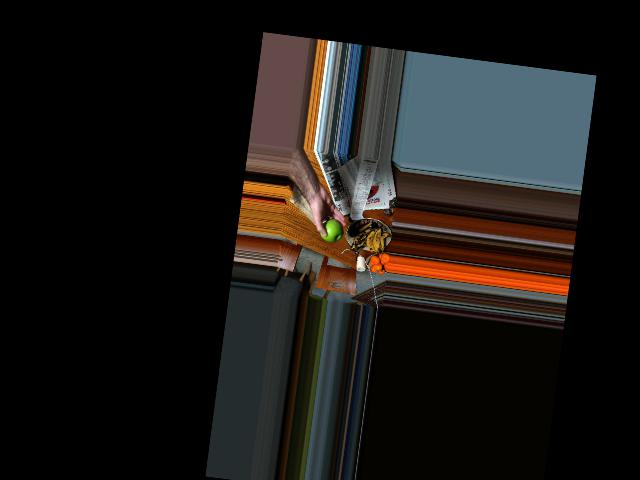apple: (317, 216, 344, 243)
